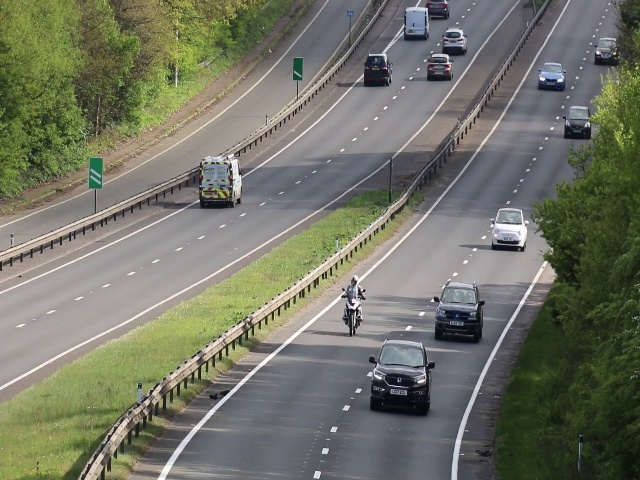car: (371, 338, 432, 417), (431, 279, 484, 342), (198, 157, 243, 209), (491, 207, 528, 252), (362, 53, 393, 87), (563, 103, 590, 140), (404, 5, 431, 41), (538, 61, 566, 92), (427, 54, 454, 83), (441, 27, 468, 51)
